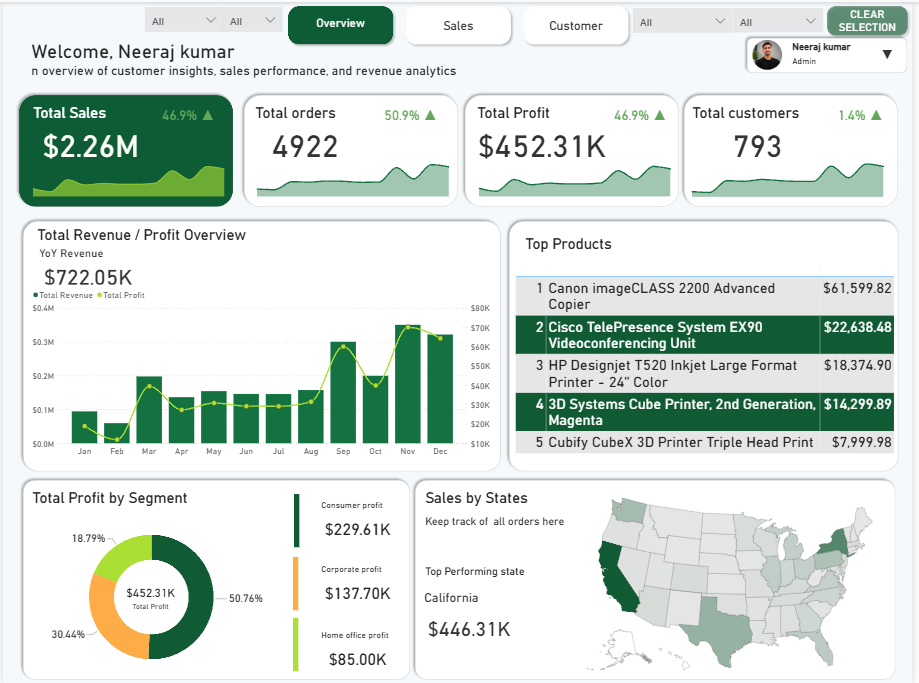

The dashboard page shown, as its layout file describes it:
{"tool":"powerbi","page":{"name":" Overview","canvas":[2048,1536],"ordinal":0},"visuals":[{"type":"actionButton","title":"Clear selection","box":[1847.5,0,200,85],"z":0},{"type":"shape","box":[1668.5,72.2,378.7,96.6],"z":0,"group":"g1"},{"type":"shape","box":[27.1,200,500,270],"z":0,"group":"g2"},{"type":"shape","box":[535,200,500,270],"z":0,"group":"g3"},{"type":"shape","box":[1032.5,200,500,270],"z":0,"group":"g8"},{"type":"shape","box":[1525,200,500,270],"z":0,"group":"g9"},{"type":"shape","box":[35,485,1094,582],"z":0,"group":"g4"},{"type":"shape","box":[1130,485,895,582],"z":0,"group":"g5"},{"type":"shape","box":[35,1067.5,890,467.5],"z":0,"group":"g6"},{"type":"shape","box":[920,1067.5,1100,467.5],"z":0,"group":"g7"},{"type":"slicer","fields":{"Values":["DateTable.Year"]},"box":[496,12,134,56],"z":1000},{"type":"image","box":[1685.5,86.5,73.4,66.5],"z":1000,"group":"g1"},{"type":"card","title":"Total Sales","fields":{"Values":["SuperstoreSales.Total Sales"]},"box":[44.6,272.5,305,85],"z":1000,"group":"g2"},{"type":"areaChart","fields":{"Category":["DateTable.Month"],"Y":["SuperstoreSales.Total Orders"]},"box":[552.5,347.5,472.5,97.5],"z":1000,"group":"g3"},{"type":"areaChart","fields":{"Category":["DateTable.Month"],"Y":["SuperstoreSales.Total Profit"]},"box":[1052.5,347.5,472,97],"z":1000,"group":"g8"},{"type":"areaChart","fields":{"Category":["DateTable.Month"],"Y":["SuperstoreSales.Total Customers"]},"box":[1532.5,347.5,472,97],"z":1000,"group":"g9"},{"type":"tableEx","fields":{"Values":["SalesPerformance.Product Rank","SuperstoreSales.Product_name","SalesPerformance.Total Sales"]},"box":[1148,584.1,867.1,461.7],"z":1000,"group":"g5"},{"type":"lineClusteredColumnComboChart","fields":{"Category":["DateTable.Month"],"Y":["SuperstoreSales.Total Revenue"],"Y2":["SuperstoreSales.Total Profit"]},"box":[60,635,1042.5,395],"z":1000,"group":"g4"},{"type":"shapeMap","fields":{"Category":["us_state_long_lat_codes.name"]},"box":[1276,1086,724,450],"z":1000,"group":"g7"},{"type":"donutChart","fields":{"Category":["SuperstoreSales.Segment"],"Y":["SuperstoreSales.Total Profit"]},"box":[52,1144,560,392],"z":1000,"group":"g6"},{"type":"slicer","fields":{"Values":["SuperstoreSales.Region"]},"box":[320,12,176,56],"z":2000},{"type":"textbox","box":[1774.3,83.3,174,38],"z":2000,"group":"g1"},{"type":"card","title":"Total Sales","fields":{"Values":["SuperstoreSales.Total Profit"]},"box":[1062,272,306,86],"z":2000,"group":"g8"},{"type":"card","title":"Total Sales","fields":{"Values":["SuperstoreSales.Total Orders"]},"box":[552.5,272.5,257.5,85],"z":2000,"group":"g3"},{"type":"card","title":"Total Sales","fields":{"Values":["SuperstoreSales.Total Customers"]},"box":[1572.5,272.5,255,85],"z":2000,"group":"g9"},{"type":"areaChart","fields":{"Category":["DateTable.Month"],"Y":["SuperstoreSales.Total Sales"]},"box":[47.1,347.5,472,97.5],"z":2000,"group":"g2"},{"type":"textbox","box":[1170,520,232.5,56],"z":2000,"group":"g5"},{"type":"card","title":"YoY Revenue","fields":{"Values":["SuperstoreSales.Total Revenue YTD"]},"box":[75.5,550.3,229.7,92.3],"z":2000,"group":"g4"},{"type":"textbox","box":[947.5,1092.5,277.5,56],"z":2000,"group":"g7"},{"type":"card","fields":{"Values":["SuperstoreSales.Total Profit"]},"box":[262,1298,138,84],"z":2000,"group":"g6"},{"type":"slicer","fields":{"Values":["SuperstoreSales.Segment"]},"box":[1645,12.5,202.5,55],"z":3000},{"type":"textbox","box":[1774.3,118.1,102.4,36.4],"z":3000,"group":"g1"},{"type":"textbox","box":[62.1,225,190,56],"z":3000,"group":"g2"},{"type":"textbox","box":[565,225,198,56],"z":3000,"group":"g3"},{"type":"textbox","box":[1065,225,210,56],"z":3000,"group":"g8"},{"type":"textbox","box":[1547.5,225,300,56],"z":3000,"group":"g9"},{"type":"textbox","box":[71,500.8,497.7,63.1],"z":3000,"group":"g4"},{"type":"card","title":"Consumer profit","fields":{"Values":["SuperstoreSales.Total Profit"]},"box":[710,1122,174,92],"z":3000,"group":"g6"},{"type":"textbox","box":[947.5,1150,340,40],"z":3000,"group":"g7"},{"type":"slicer","fields":{"Values":["SuperstoreSales.Category"]},"box":[1420,12.5,224,56],"z":4000},{"type":"card","title":"Total Sales","fields":{"Values":["SuperstoreSales.YOY sales display"]},"box":[349.6,225,137,55],"z":4000,"group":"g2"},{"type":"card","title":"Total Sales","fields":{"Values":["SuperstoreSales.YOY orders display"]},"box":[850,225,137.5,55],"z":4000,"group":"g3"},{"type":"card","title":"Total Sales","fields":{"Values":["SuperstoreSales.YOY Profit display"]},"box":[1367.5,225,137,55],"z":4000,"group":"g8"},{"type":"card","title":"Total Sales","fields":{"Values":["SuperstoreSales.YOY customers display"]},"box":[1862.5,225,137.5,55],"z":4000,"group":"g9"},{"type":"card","title":"Corporate profit","fields":{"Values":["SuperstoreSales.Total Profit"]},"box":[710,1266,174,92],"z":4000,"group":"g6"},{"type":"card","fields":{"Values":["SalesPerformance.Dynamic State sales"]},"box":[945,1325,212.5,122.5],"z":4000,"group":"g7"},{"type":"pageNavigator","box":[632.5,0,787.5,105],"z":5000},{"type":"textbox","box":[948,1264,255,38.8],"z":5000,"group":"g7"},{"type":"card","title":"Home office profit","fields":{"Values":["SuperstoreSales.Total Profit"]},"box":[710,1414,174,92],"z":5000,"group":"g6"},{"type":"textbox","box":[57.5,80,500,67.5],"z":6000},{"type":"actionButton","box":[1961.9,94.4,59.7,44.3],"z":6000,"group":"g1"},{"type":"shape","box":[654,1108,12,120],"z":6000,"group":"g6"},{"type":"textbox","box":[57.8,132.2,987.8,52.2],"z":7000},{"type":"shape","box":[652,1250,12,120],"z":7000,"group":"g6"},{"type":"group","id":"g1","title":"Email Dropdown","box":[1642.9,72.2,404.3,145.7],"z":8000},{"type":"shape","box":[652,1388,12,120],"z":8000,"group":"g6"},{"type":"group","id":"g2","title":"Total Sales KPI","box":[27.1,200,500,270],"z":9000,"group":"g10"},{"type":"textbox","box":[60,1092.5,365,56],"z":9000,"group":"g6"},{"type":"group","id":"g3","title":"Total orders KPI","box":[535,200,500,270],"z":10000,"group":"g10"},{"type":"group","id":"g4","title":"Total Profit overview","box":[35,485,1094,582],"z":11000},{"type":"group","id":"g5","title":"Top Products","box":[1130,485,895,582],"z":12000},{"type":"group","id":"g6","title":"Total Profit by segment","box":[35,1067.5,890,468.5],"z":13000},{"type":"group","id":"g7","title":"Sales by state","box":[920,1067.5,1100,468.5],"z":14000},{"type":"group","id":"g8","title":"Total Profit KPI","box":[1032.5,200,500,270],"z":15000,"group":"g10"},{"type":"group","id":"g9","title":"Total customers KPI","box":[1525,200,500,270],"z":16000,"group":"g10"},{"type":"group","id":"g10","title":"KPI","box":[27.1,200,1997.9,270],"z":16001}]}

Visuals, with their boxes in screenshot pixels (x1, y1, x2, y2), scaled from the page's 2048x1536 canvas onto the 919x683 screenshot:
"Clear selection" actionButton: x1=829, y1=0, x2=918, y2=38
shape: x1=749, y1=32, x2=918, y2=75
shape: x1=12, y1=89, x2=237, y2=209
shape: x1=240, y1=89, x2=464, y2=209
shape: x1=463, y1=89, x2=688, y2=209
shape: x1=684, y1=89, x2=909, y2=209
shape: x1=16, y1=216, x2=507, y2=474
shape: x1=507, y1=216, x2=909, y2=474
shape: x1=16, y1=475, x2=415, y2=682
shape: x1=413, y1=475, x2=906, y2=682
slicer - DateTable.Year: x1=223, y1=5, x2=283, y2=30
image: x1=756, y1=38, x2=789, y2=68
"Total Sales" card: x1=20, y1=121, x2=157, y2=159
areaChart - DateTable.Month x SuperstoreSales.Total Orders: x1=248, y1=155, x2=460, y2=198
areaChart - DateTable.Month x SuperstoreSales.Total Profit: x1=472, y1=155, x2=684, y2=198
areaChart - DateTable.Month x SuperstoreSales.Total Customers: x1=688, y1=155, x2=899, y2=198
tableEx - SalesPerformance.Product Rank x SuperstoreSales.Product_name: x1=515, y1=260, x2=904, y2=465
lineClusteredColumnComboChart - DateTable.Month x SuperstoreSales.Total Revenue: x1=27, y1=282, x2=495, y2=458
shapeMap - us_state_long_lat_codes.name: x1=573, y1=483, x2=897, y2=682
donutChart - SuperstoreSales.Segment x SuperstoreSales.Total Profit: x1=23, y1=509, x2=275, y2=682
slicer - SuperstoreSales.Region: x1=144, y1=5, x2=223, y2=30
textbox: x1=796, y1=37, x2=874, y2=54
"Total Sales" card: x1=477, y1=121, x2=614, y2=159
"Total Sales" card: x1=248, y1=121, x2=363, y2=159
"Total Sales" card: x1=706, y1=121, x2=820, y2=159
areaChart - DateTable.Month x SuperstoreSales.Total Sales: x1=21, y1=155, x2=233, y2=198
textbox: x1=525, y1=231, x2=629, y2=256
"YoY Revenue" card: x1=34, y1=245, x2=137, y2=286
textbox: x1=425, y1=486, x2=550, y2=511
card - SuperstoreSales.Total Profit: x1=118, y1=577, x2=179, y2=615
slicer - SuperstoreSales.Segment: x1=738, y1=6, x2=829, y2=30
textbox: x1=796, y1=53, x2=842, y2=69
textbox: x1=28, y1=100, x2=113, y2=125
textbox: x1=254, y1=100, x2=342, y2=125
textbox: x1=478, y1=100, x2=572, y2=125
textbox: x1=694, y1=100, x2=829, y2=125
textbox: x1=32, y1=223, x2=255, y2=251
"Consumer profit" card: x1=319, y1=499, x2=397, y2=540
textbox: x1=425, y1=511, x2=578, y2=529
slicer - SuperstoreSales.Category: x1=637, y1=6, x2=738, y2=30
"Total Sales" card: x1=157, y1=100, x2=218, y2=125
"Total Sales" card: x1=381, y1=100, x2=443, y2=125
"Total Sales" card: x1=614, y1=100, x2=675, y2=125
"Total Sales" card: x1=836, y1=100, x2=897, y2=125
"Corporate profit" card: x1=319, y1=563, x2=397, y2=604
card - SalesPerformance.Dynamic State sales: x1=424, y1=589, x2=519, y2=644
pageNavigator: x1=284, y1=0, x2=637, y2=47
textbox: x1=425, y1=562, x2=540, y2=579
"Home office profit" card: x1=319, y1=629, x2=397, y2=670
textbox: x1=26, y1=36, x2=250, y2=66
actionButton: x1=880, y1=42, x2=907, y2=62
shape: x1=293, y1=493, x2=299, y2=546
textbox: x1=26, y1=59, x2=469, y2=82
shape: x1=293, y1=556, x2=298, y2=609
"Email Dropdown" group: x1=737, y1=32, x2=918, y2=97
shape: x1=293, y1=617, x2=298, y2=671
"Total Sales KPI" group: x1=12, y1=89, x2=237, y2=209
textbox: x1=27, y1=486, x2=191, y2=511
"Total orders KPI" group: x1=240, y1=89, x2=464, y2=209
"Total Profit overview" group: x1=16, y1=216, x2=507, y2=474
"Top Products" group: x1=507, y1=216, x2=909, y2=474
"Total Profit by segment" group: x1=16, y1=475, x2=415, y2=682
"Sales by state" group: x1=413, y1=475, x2=906, y2=682
"Total Profit KPI" group: x1=463, y1=89, x2=688, y2=209
"Total customers KPI" group: x1=684, y1=89, x2=909, y2=209
"KPI" group: x1=12, y1=89, x2=909, y2=209
